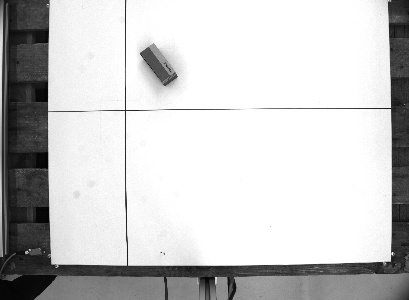b3: (137, 40, 180, 86)
